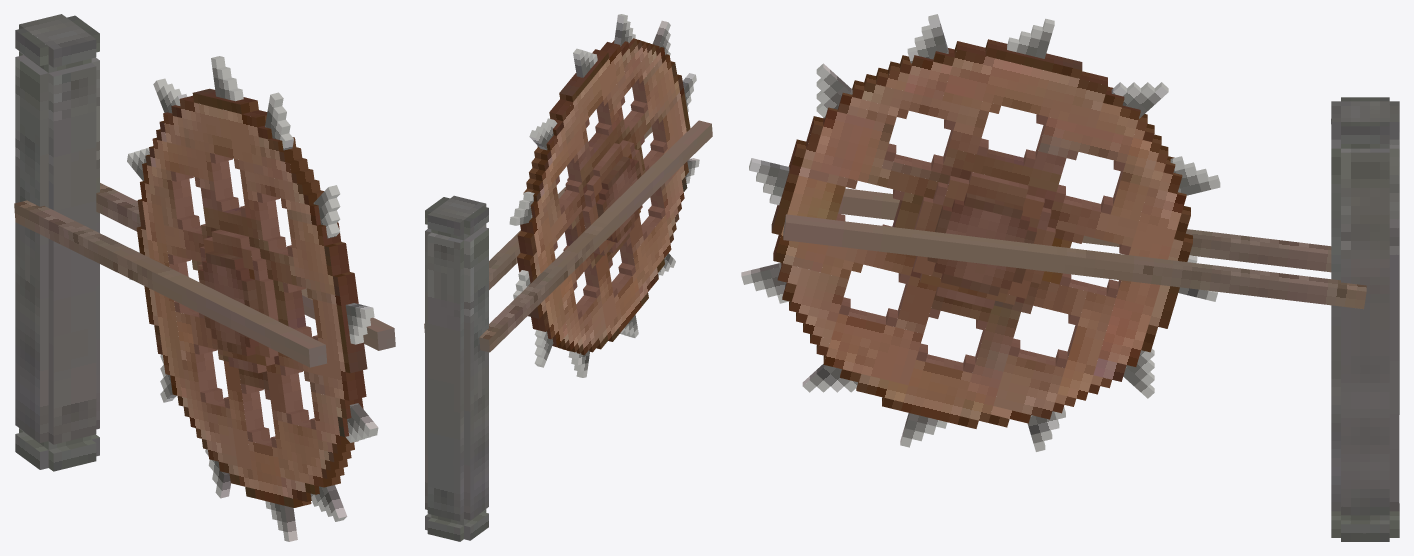
Rendered from trap-28.glb.
The picture shows the model from 3 angles, left to right: view 1: azimuth 30°, elevation 25°; view 2: azimuth 150°, elevation 25°; view 3: azimuth 270°, elevation 25°; orthographic projection. The views are drawn at different scales.
Parts seen in each view (by area): view 1: Log1-Local; view 2: Log1-Local; view 3: Log1-Local.
Part boxes in pixels (box(x1,y1,x2,y2)): Log1-Local: box(14, 14, 395, 541); Log1-Local: box(424, 14, 712, 541); Log1-Local: box(741, 14, 1399, 541).
Bounding box in the file's own units: 0.1484 × 0.8577 × 1.
Materials: 4 (4 with a texture image).
